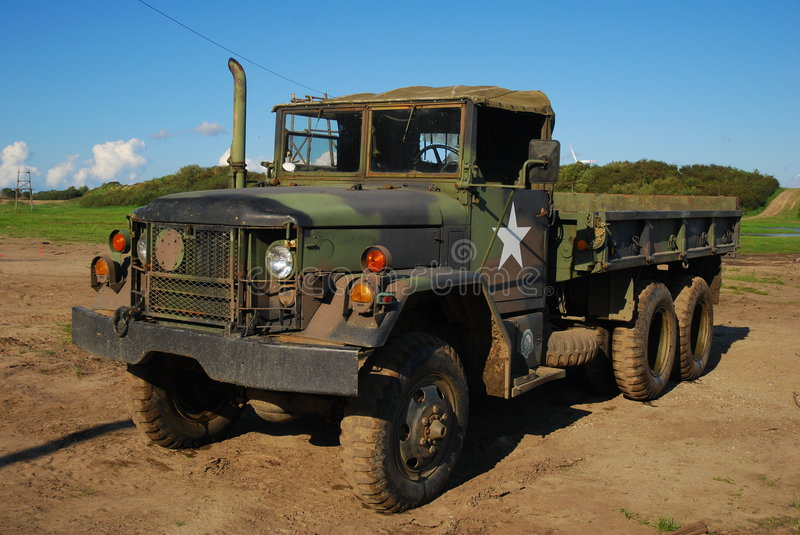camion: (81, 87, 737, 487)
